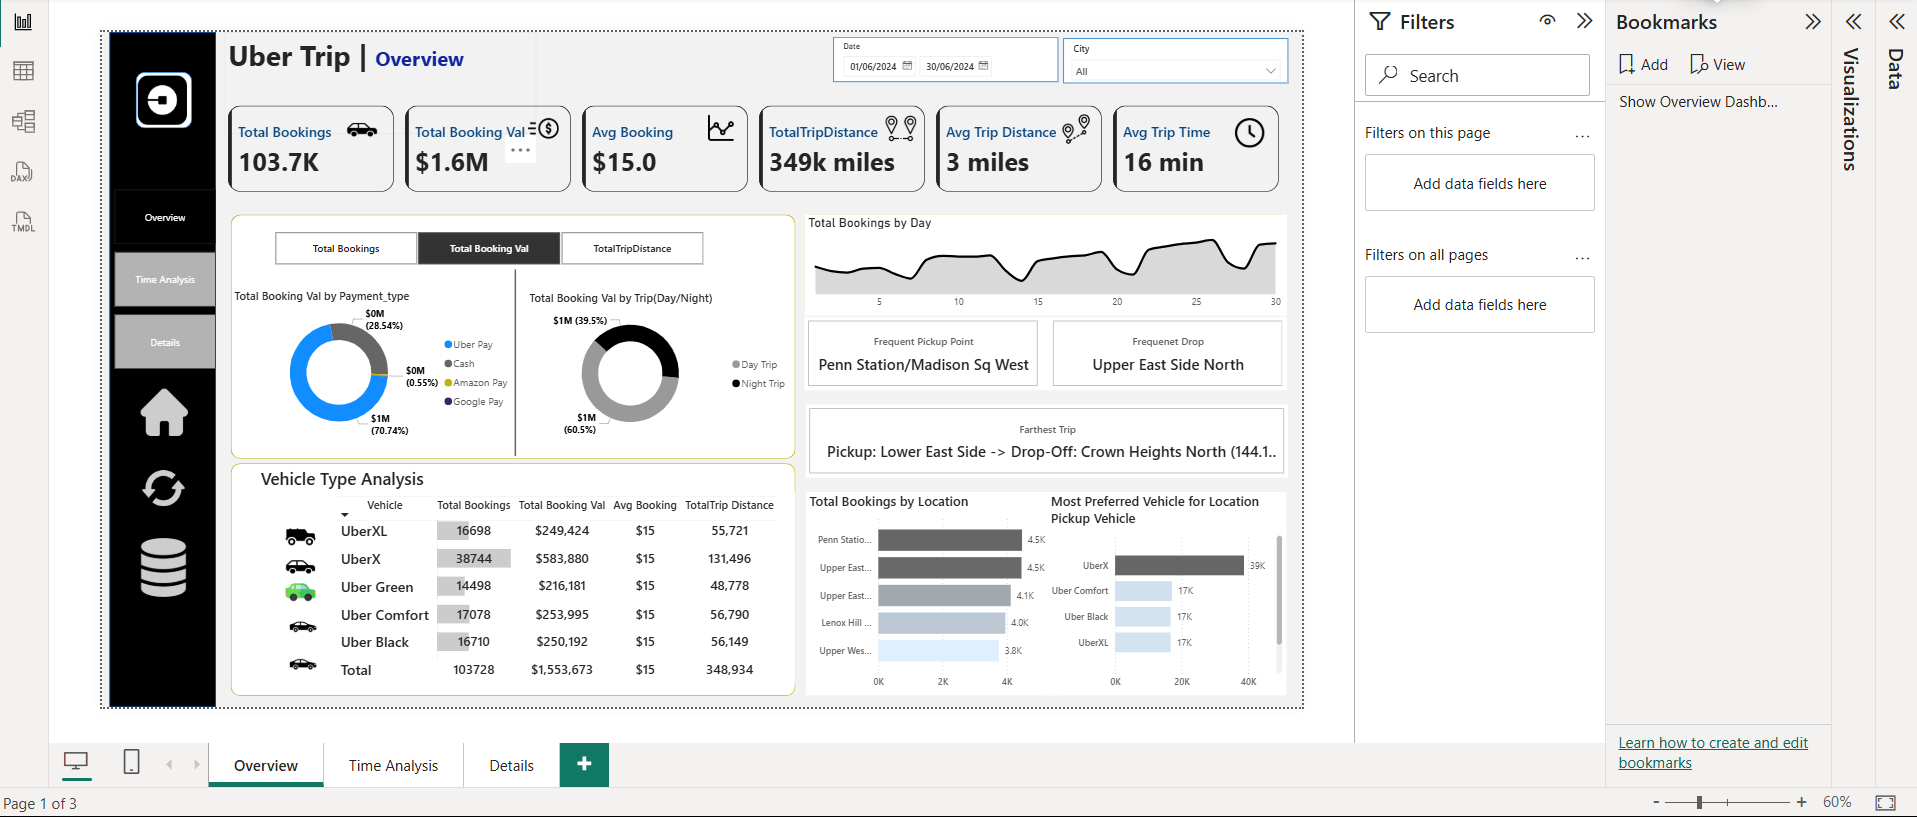

The page's visual inventory and layout, read from the dashboard file:
{"tool":"powerbi","page":{"name":"Overview","canvas":[1600,900],"ordinal":0},"visuals":[{"type":"shape","box":[171.5,243.6,753,325.9],"z":0},{"type":"shape","box":[10.7,0,142,900.3],"z":1000},{"type":"textbox","box":[163.6,0,415.8,134.5],"z":2000},{"type":"cardVisual","fields":{"Data":["Trip Details.Total Bookings","Trip Details.Total Booking Amount","Trip Details.Avg BookingAmount","Trip Details.TotalTripDistance","Trip Details.Avg Trip Distance","Trip Details.Avg Trip Time"]},"box":[163.6,93,1415,125],"z":3000},{"type":"image","box":[564,103.9,50.4,50.4],"z":4000},{"type":"image","box":[1274.8,105.5,50.4,48.9],"z":5000},{"type":"image","box":[1039.4,103.9,50.4,50.4],"z":6000},{"type":"image","box":[1505.6,110.1,50.4,48.9],"z":7000},{"type":"image","box":[799.4,103.9,50.4,48.9],"z":8000},{"type":"image","box":[321,105.5,50.4,50.4],"z":9000},{"type":"slicer","fields":{"Values":["Dynamic Measure.Dynamic Measure"]},"box":[204.8,259.9,620.6,56.6],"z":10000},{"type":"donutChart","fields":{"Y":["Trip Details.Total Booking Val"],"Category":["Trip Details.Payment_type"]},"box":[171.2,340.9,383.7,204.8],"z":11000},{"type":"donutChart","fields":{"Y":["Trip Details.Total Booking Val"],"Category":["Trip Details.Trip Type(Day/Night)"]},"box":[564.3,343.1,360.2,204.1],"z":12000},{"type":"shape","box":[171.5,574.6,753,310.5],"z":13000},{"type":"pivotTable","fields":{"Rows":["Trip Details.Vehicle"],"Values":["Trip Details.Total Bookings","Trip Details.Total Booking Val","Trip Details.Avg Booking","Trip Details.TotalTrip Distance Measure"]},"box":[308.7,614.1,615.8,255.6],"z":14000},{"type":"image","box":[240.1,648.4,49.7,49.7],"z":15000},{"type":"image","box":[240.1,713.6,49.7,66.9],"z":16000},{"type":"image","box":[240.1,687.8,49.7,49.7],"z":17000},{"type":"image","box":[243.6,768.4,49.7,49.7],"z":18000},{"type":"image","box":[243.6,818.2,49.7,49.7],"z":19000},{"type":"card","fields":{"Values":["Trip Details.Title"]},"box":[193.8,574.6,253.9,44.6],"z":20000},{"type":"shape","box":[936.5,243.6,641.5,135.5],"z":21000},{"type":"areaChart","fields":{"Category":["Calendar Table.Date.Variation.Date Hierarchy.Day"],"Y":["Trip Details.Total Bookings"]},"box":[936.5,243.6,643.2,135.5],"z":22000},{"type":"cardVisual","fields":{"Data":["Trip Details.Frequent Pickup Point","Trip Details.Frequenet Drop"]},"box":[936.5,380.8,643.2,97.8],"z":23000},{"type":"cardVisual","fields":{"Data":["Trip Details.Farthest Trip"]},"box":[938.3,497.4,643.2,97.8],"z":24000},{"type":"barChart","fields":{"Category":["Location Table.Location"],"Y":["Trip Details.Total Bookings"]},"box":[938.3,614.1,336.2,271],"z":25000},{"type":"barChart","title":"Most Preferred Vehicle for Location Pickup Vehicle","fields":{"Y":["Trip Details.Total Bookings"],"Category":["Trip Details.Vehicle"]},"box":[1260.7,614.1,319,271],"z":26000},{"type":"shape","box":[511.2,317.3,78.9,248.7],"z":27000},{"type":"slicer","fields":{"Values":["Calendar Table.Date"]},"box":[974.3,6.9,300.2,60],"z":28000},{"type":"slicer","fields":{"Values":["Location Table.City"]},"box":[1281.3,8.6,300.2,60],"z":29000},{"type":"shape","box":[45,53.3,75,75],"z":29001},{"type":"image","box":[33.3,53.3,95,75],"z":29002},{"type":"qnaVisual","box":[1274.4,0,150,150],"z":29003},{"type":"pageNavigator","box":[16.7,210,135,240],"z":29004},{"type":"image","box":[46.7,466.7,73.3,80],"z":29005},{"type":"image","box":[20,575,123.3,66.7],"z":29007},{"type":"image","box":[30,670,103.3,88.3],"z":29008}]}

Visuals, with their boxes on the page's 1600x900 design canvas (x1, y1, x2, y2). These are canvas units, not pixel positions in the 1917x817 screenshot, which may show the page scaled, cropped or inside an application window:
shape: select_region(172, 244, 924, 570)
shape: select_region(11, 0, 153, 900)
textbox: select_region(164, 0, 579, 134)
cardVisual - Trip Details.Total Bookings x Trip Details.Total Booking Amount: select_region(164, 93, 1579, 218)
image: select_region(564, 104, 614, 154)
image: select_region(1275, 106, 1325, 154)
image: select_region(1039, 104, 1090, 154)
image: select_region(1506, 110, 1556, 159)
image: select_region(799, 104, 850, 153)
image: select_region(321, 106, 371, 156)
slicer - Dynamic Measure.Dynamic Measure: select_region(205, 260, 825, 316)
donutChart - Trip Details.Total Booking Val x Trip Details.Payment_type: select_region(171, 341, 555, 546)
donutChart - Trip Details.Total Booking Val x Trip Details.Trip Type(Day/Night): select_region(564, 343, 924, 547)
shape: select_region(172, 575, 924, 885)
pivotTable - Trip Details.Vehicle x Trip Details.Total Bookings: select_region(309, 614, 924, 870)
image: select_region(240, 648, 290, 698)
image: select_region(240, 714, 290, 780)
image: select_region(240, 688, 290, 738)
image: select_region(244, 768, 293, 818)
image: select_region(244, 818, 293, 868)
card - Trip Details.Title: select_region(194, 575, 448, 619)
shape: select_region(936, 244, 1578, 379)
areaChart - Calendar Table.Date.Variation.Date Hierarchy.Day x Trip Details.Total Bookings: select_region(936, 244, 1580, 379)
cardVisual - Trip Details.Frequent Pickup Point x Trip Details.Frequenet Drop: select_region(936, 381, 1580, 479)
cardVisual - Trip Details.Farthest Trip: select_region(938, 497, 1582, 595)
barChart - Location Table.Location x Trip Details.Total Bookings: select_region(938, 614, 1274, 885)
"Most Preferred Vehicle for Location Pickup Vehicle" barChart: select_region(1261, 614, 1580, 885)
shape: select_region(511, 317, 590, 566)
slicer - Calendar Table.Date: select_region(974, 7, 1274, 67)
slicer - Location Table.City: select_region(1281, 9, 1582, 69)
shape: select_region(45, 53, 120, 128)
image: select_region(33, 53, 128, 128)
qnaVisual: select_region(1274, 0, 1424, 150)
pageNavigator: select_region(17, 210, 152, 450)
image: select_region(47, 467, 120, 547)
image: select_region(20, 575, 143, 642)
image: select_region(30, 670, 133, 758)
